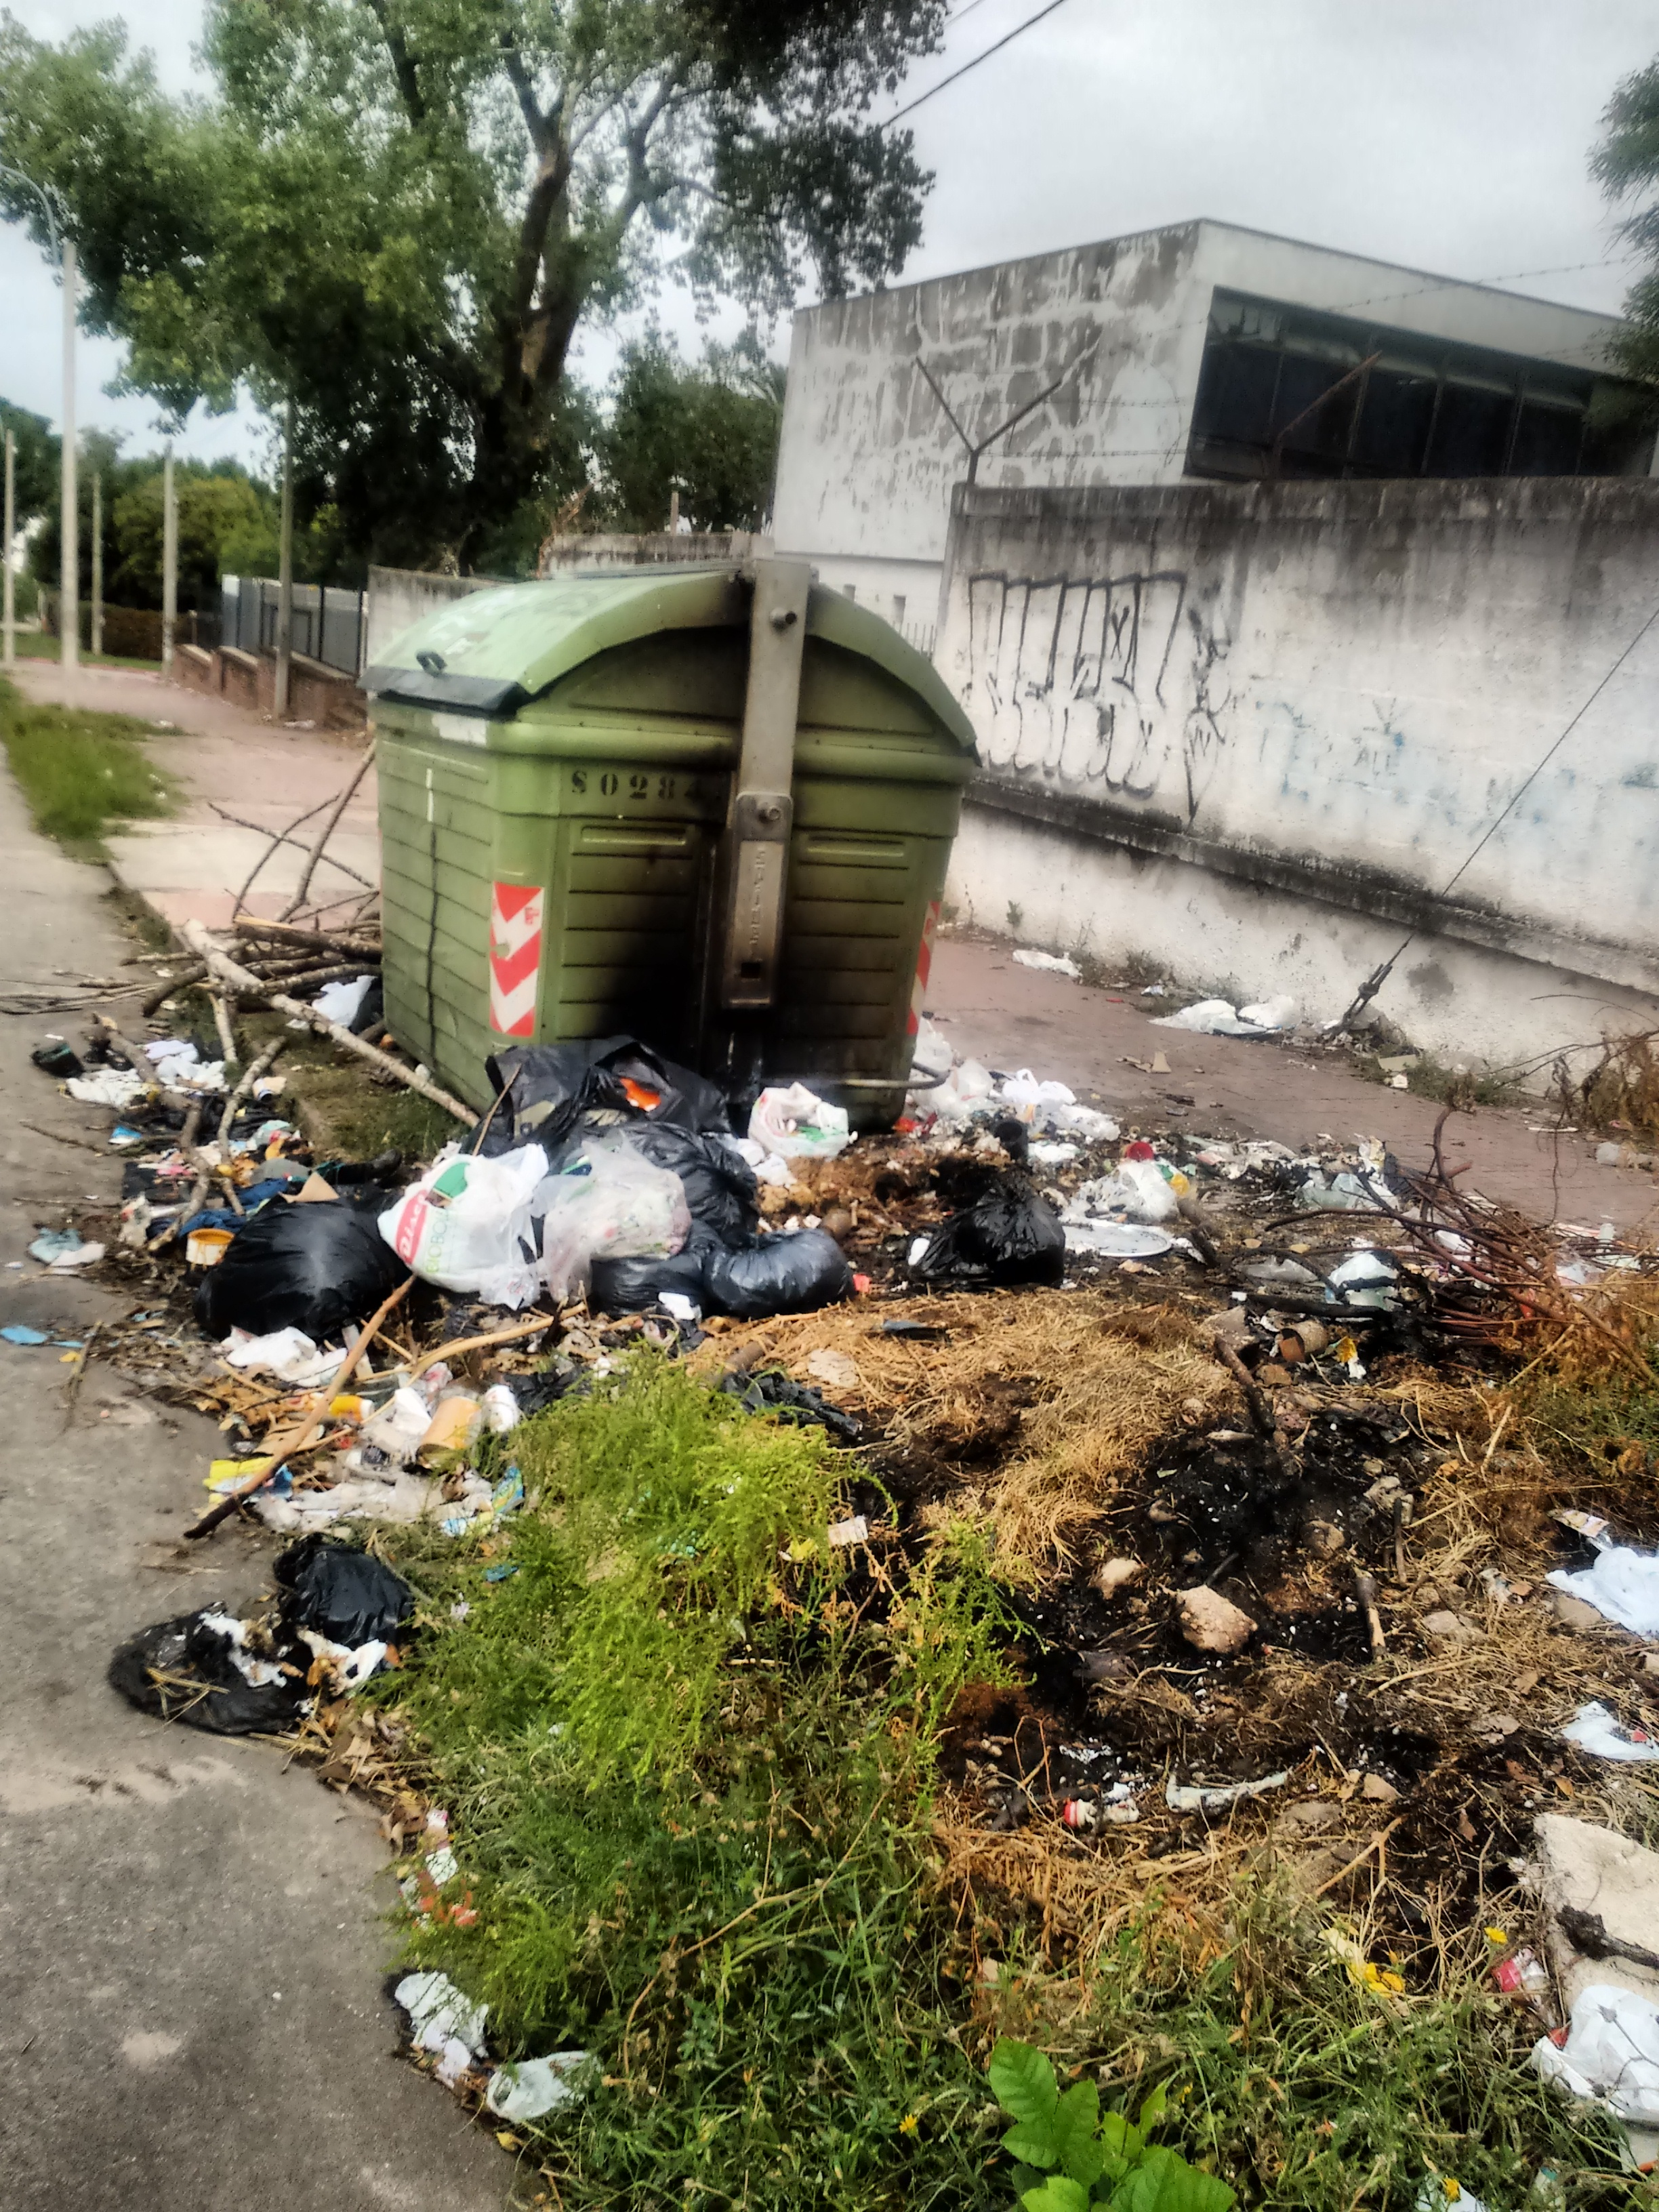container: (345, 559, 955, 1137)
